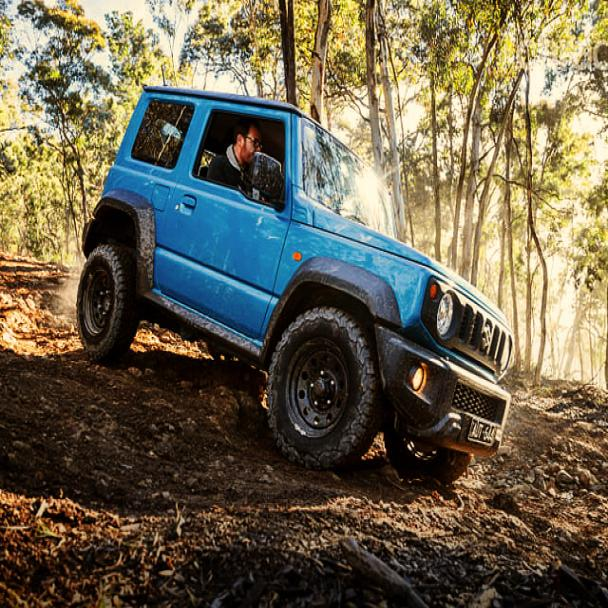Mobil: (77, 83, 515, 484)
